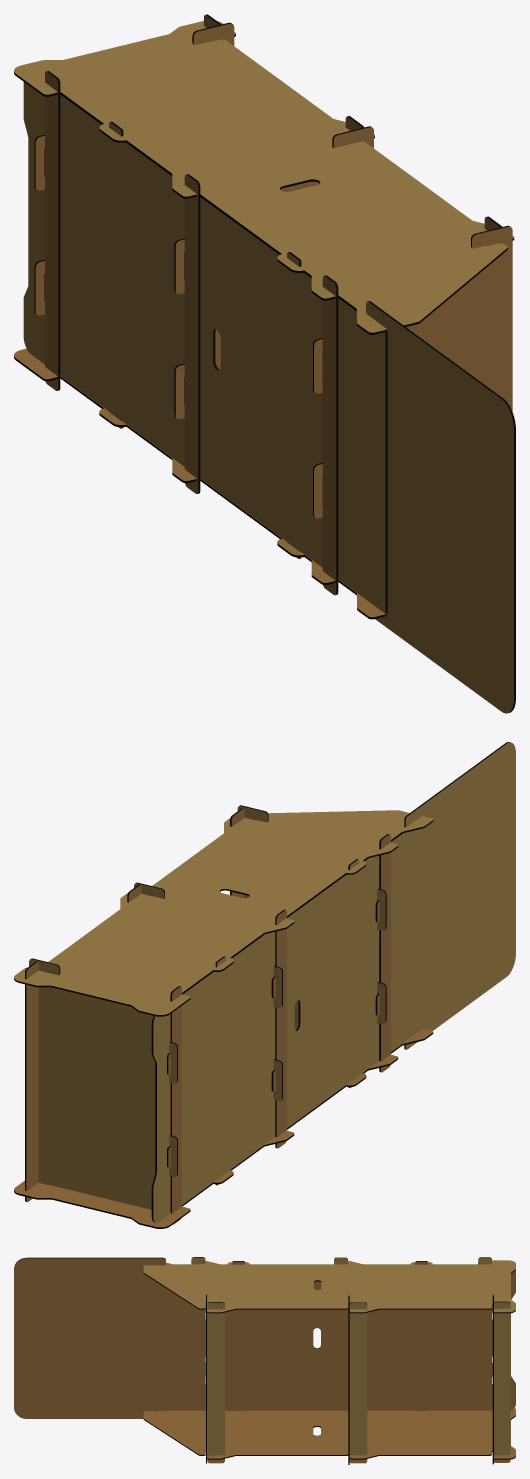
Rendered from 6D david.gltf.
The picture shows the model from 3 angles, top to bottom: view 1: azimuth 30°, elevation 25°; view 2: azimuth 150°, elevation 25°; view 3: azimuth 270°, elevation 25°; orthographic projection. The views are drawn at different scales.
Visible parts, largest first — view 1: TQ_ARD_D7-node.001; view 2: TQ_ARD_D7-node.001; view 3: TQ_ARD_D7-node.001.
Part boxes in pixels (box(x1,y1,x2,y2)): TQ_ARD_D7-node.001: box(14, 14, 515, 713); TQ_ARD_D7-node.001: box(14, 742, 515, 1228); TQ_ARD_D7-node.001: box(14, 1257, 515, 1464).
Size of the model in its own units: 0.485 by 0.7054 by 1.98.
